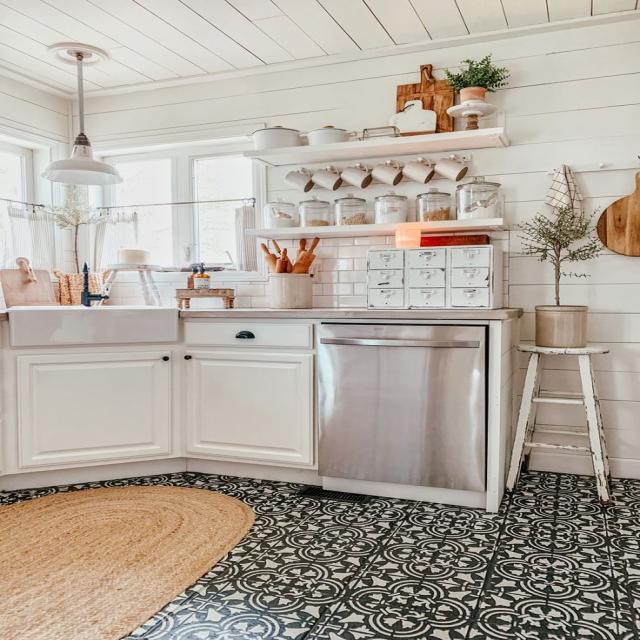dishwasher: (300, 303, 522, 545)
